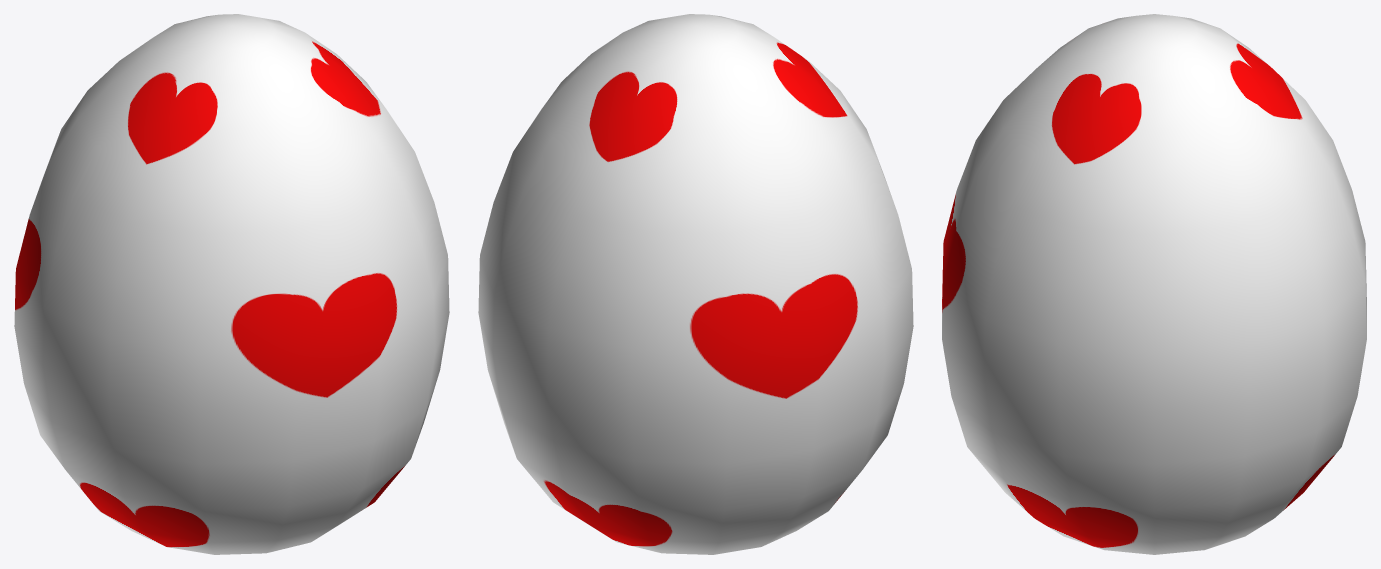
Rendered from aka.fbx.
3 renders of one model, left to right at view 1: azimuth 30°, elevation 25°; view 2: azimuth 150°, elevation 25°; view 3: azimuth 270°, elevation 25°, orthographic.
Parts seen in each view (by area): view 1: pSphere1; view 2: pSphere1; view 3: pSphere1.
Part boxes in pixels (x1,y1,x2,y2): pSphere1: [14, 14, 449, 554]; pSphere1: [478, 14, 913, 554]; pSphere1: [942, 14, 1366, 554].
Size of the model in its own units: 3.58 by 4.57 by 3.49.
Materials: 1 (1 with a texture image).
